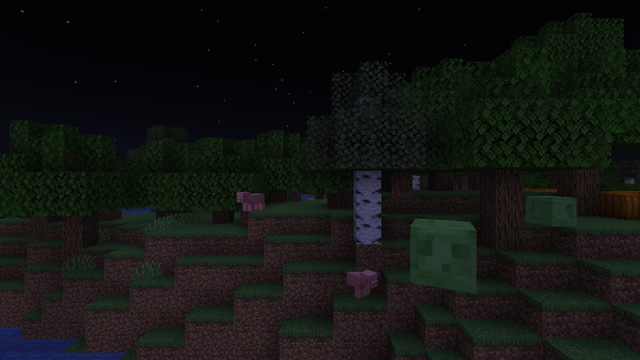cochons: (344, 271, 369, 298), (242, 193, 263, 211)
slimes: (404, 217, 487, 289), (524, 194, 577, 225)
